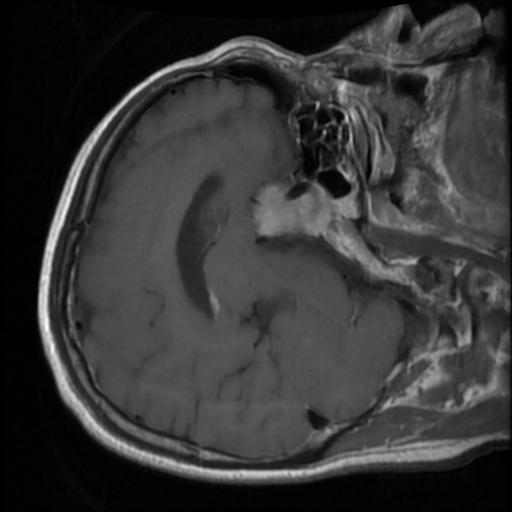pituitary tumour: (250, 179, 335, 238)
